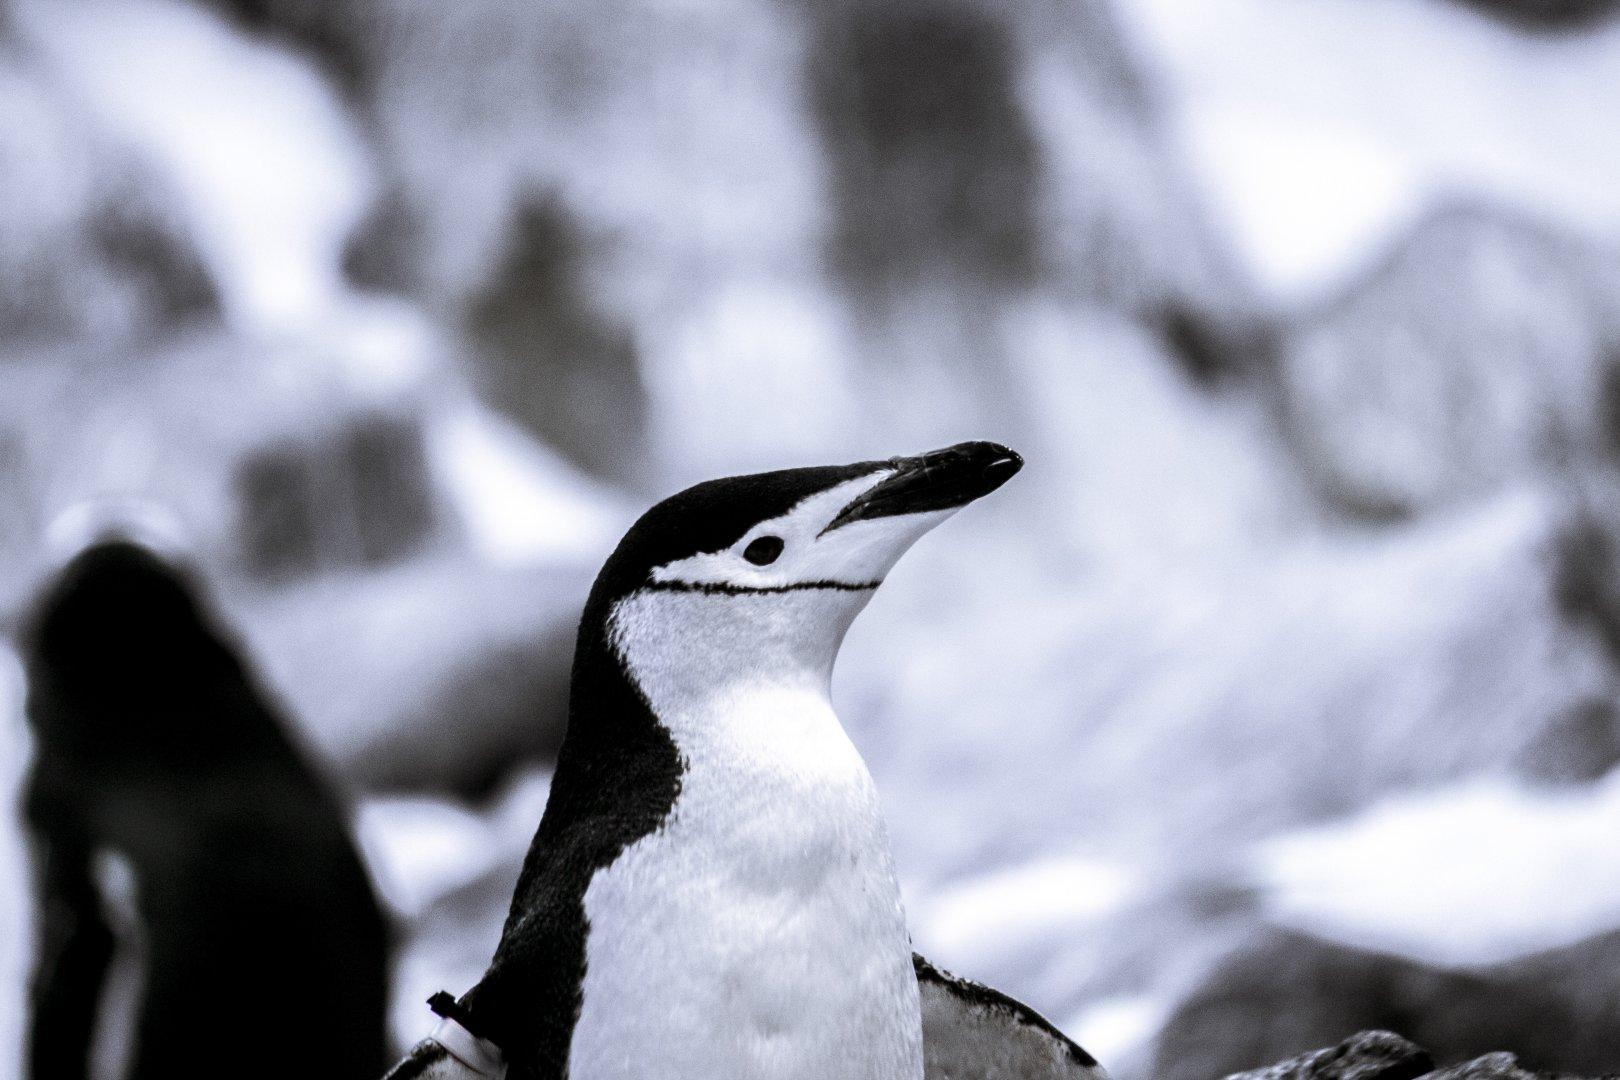chinstrap: (458, 358, 1079, 1080)
